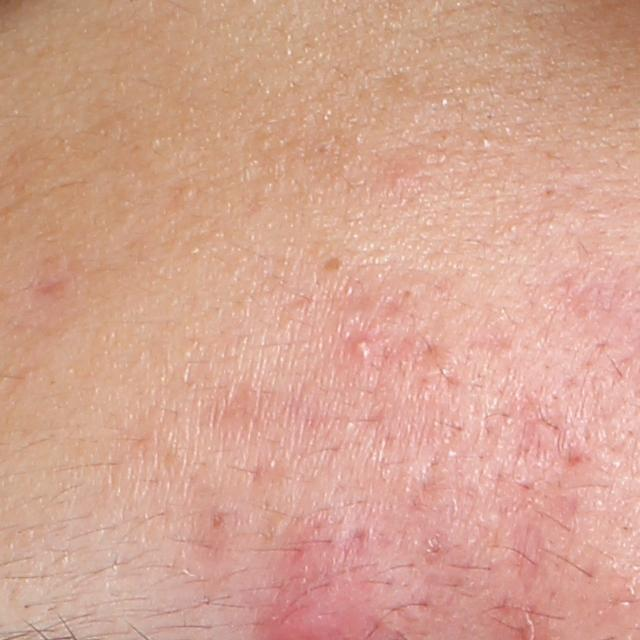comedo: (319, 250, 348, 281), (204, 512, 228, 532), (179, 185, 198, 205), (477, 133, 491, 148)
pustule: (350, 334, 373, 364)
